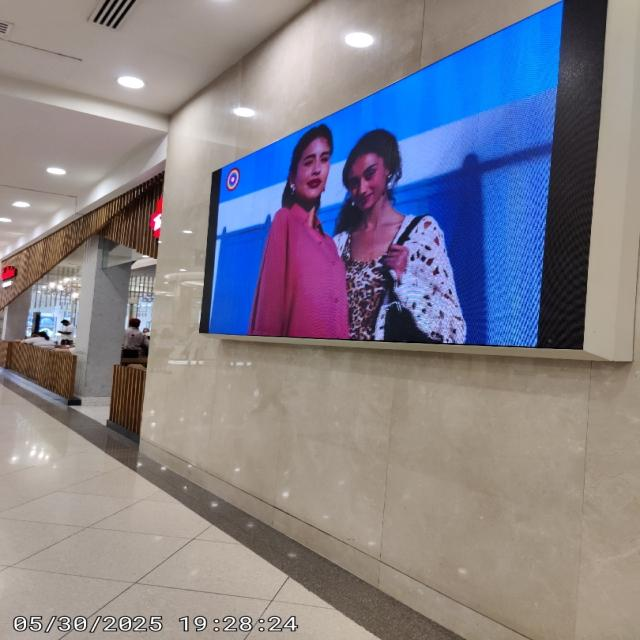digital-board-medium: (199, 0, 607, 347)
